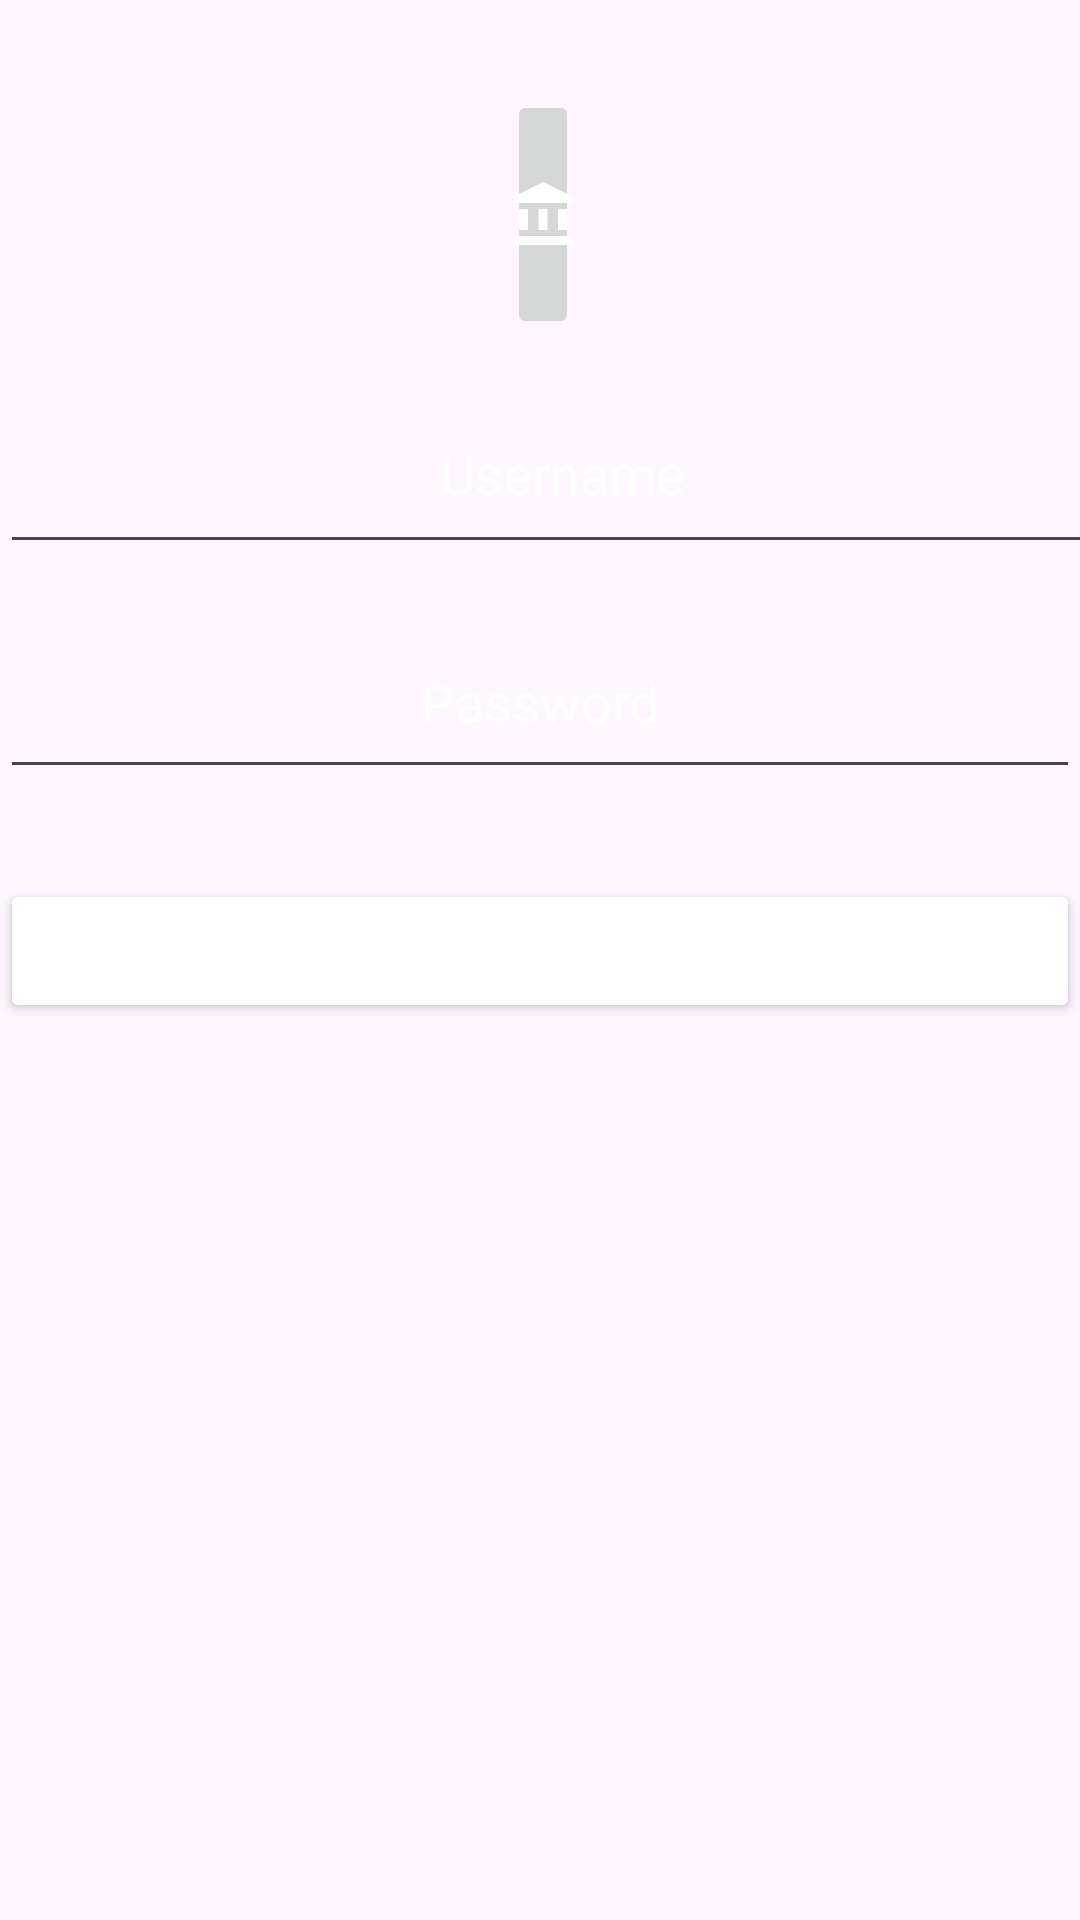

Icon bounding boxes for this 1080×1920 phone screenshot, format (x1, y1, x2, y2):
bank: (519, 108, 567, 321)
